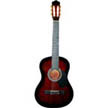guitar: (33, 1, 76, 108)
